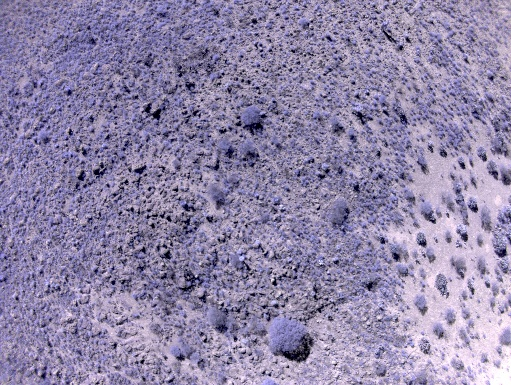agave: (297, 17, 310, 28), (207, 72, 220, 82), (271, 195, 282, 206), (293, 166, 302, 178), (378, 94, 387, 106), (320, 162, 330, 172), (350, 180, 360, 190), (64, 84, 74, 94), (212, 54, 222, 63), (180, 200, 189, 209), (51, 134, 60, 143), (87, 125, 96, 134), (324, 31, 332, 41), (198, 244, 206, 254), (353, 91, 361, 100), (311, 113, 320, 121), (100, 142, 109, 150), (119, 152, 127, 161), (279, 5, 287, 14), (238, 255, 246, 263), (100, 340, 108, 348), (308, 155, 315, 164), (132, 293, 139, 302), (253, 191, 260, 199), (283, 109, 290, 117), (53, 143, 61, 150), (92, 338, 100, 345), (134, 143, 141, 151), (133, 313, 140, 320), (360, 221, 367, 228), (62, 135, 70, 141), (56, 105, 63, 111), (255, 61, 261, 68), (237, 53, 244, 59)
